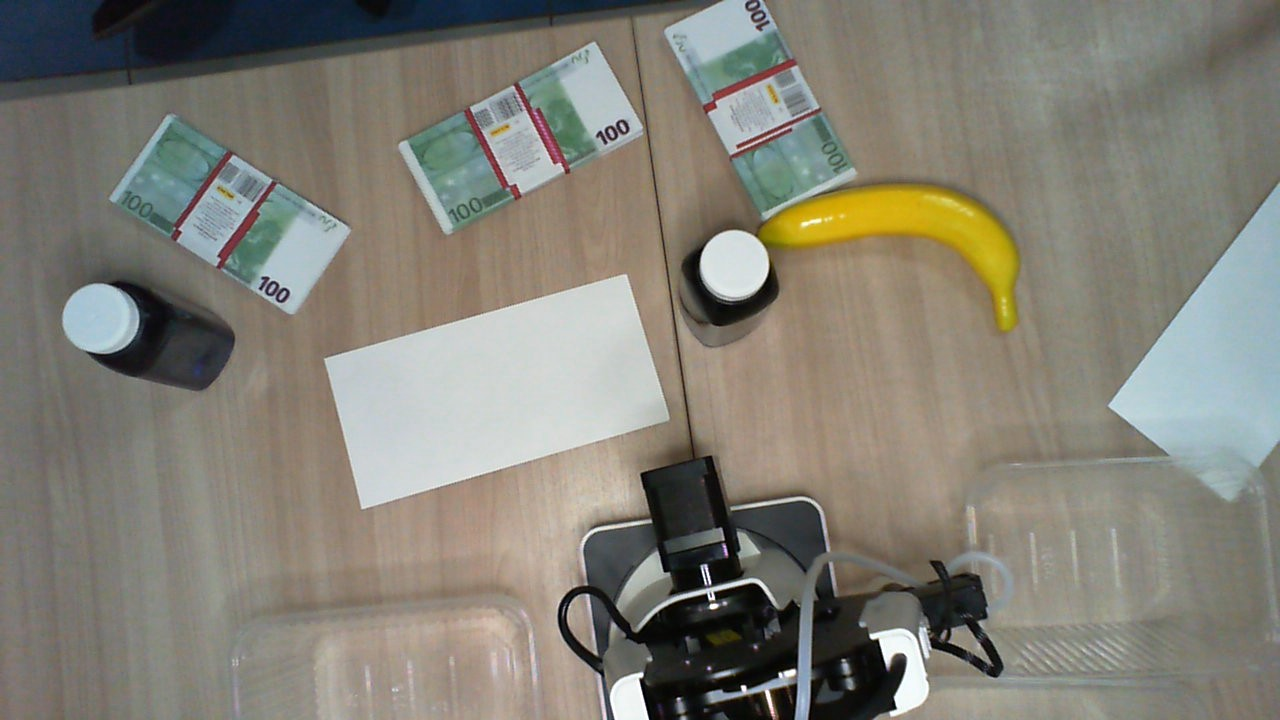banana: (758, 181, 1021, 332)
bottle: (59, 275, 161, 373), (682, 229, 780, 324)
convert: (323, 274, 671, 511), (1108, 182, 1280, 499)
money: (103, 111, 351, 316), (398, 42, 648, 235), (666, 1, 859, 224)
